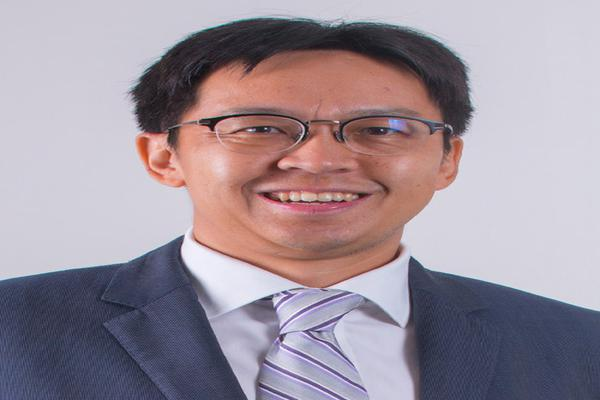Chinese: (197, 62, 445, 246)
